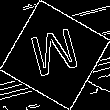M_S: (26, 25, 84, 85)
